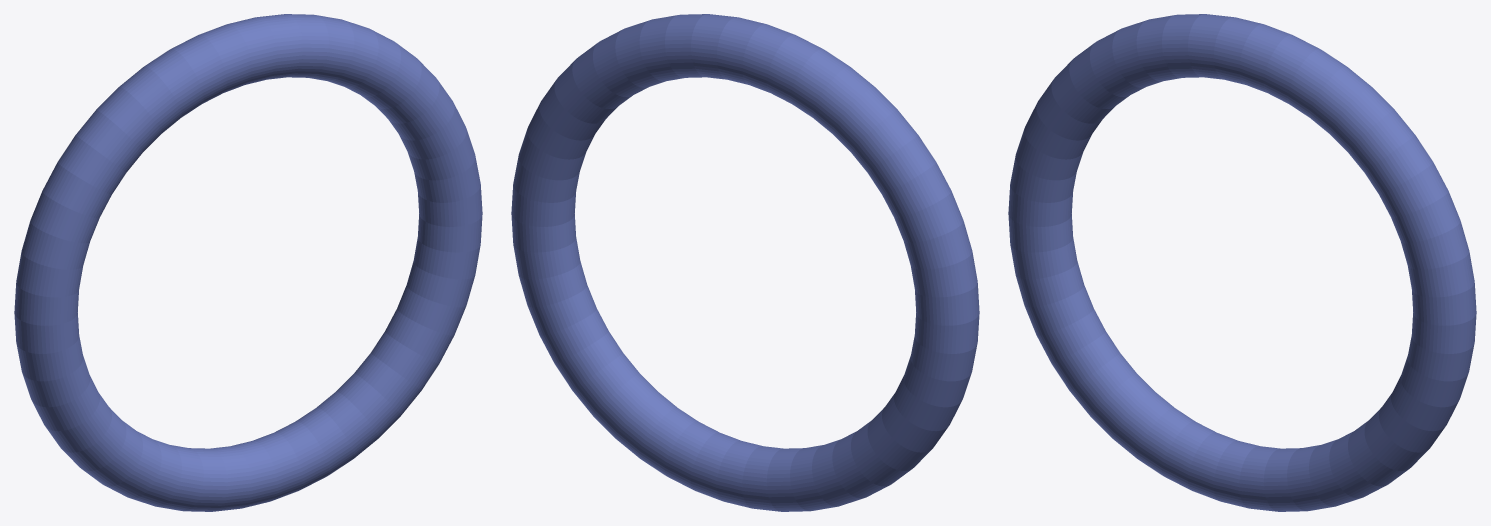
The picture shows the model from 3 angles, left to right: view 1: azimuth 30°, elevation 25°; view 2: azimuth 150°, elevation 25°; view 3: azimuth 330°, elevation 25°; orthographic projection.
Parts seen in each view (by area): view 1: world; view 2: world; view 3: world.
Part boxes in pixels (x1=…): world: x1=14, y1=14, x2=482, y2=511; world: x1=511, y1=14, x2=979, y2=511; world: x1=1008, y1=14, x2=1476, y2=511.
Bounding box in the file's own units: 21.2 × 21.16 × 2.53.
